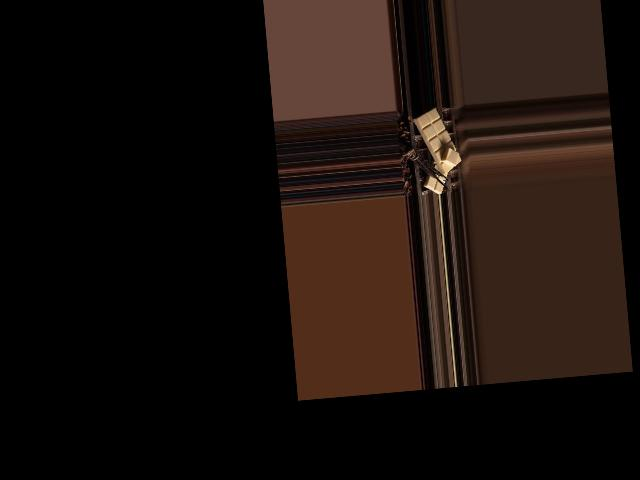chocolate: (413, 106, 462, 178)
